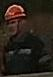helmet: (4, 3, 26, 23)
vest: (0, 32, 45, 73)
